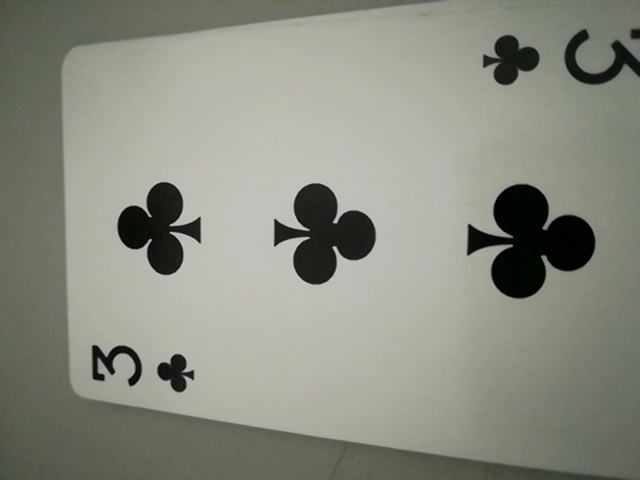mh 3: (478, 16, 640, 104), (83, 338, 202, 402)
